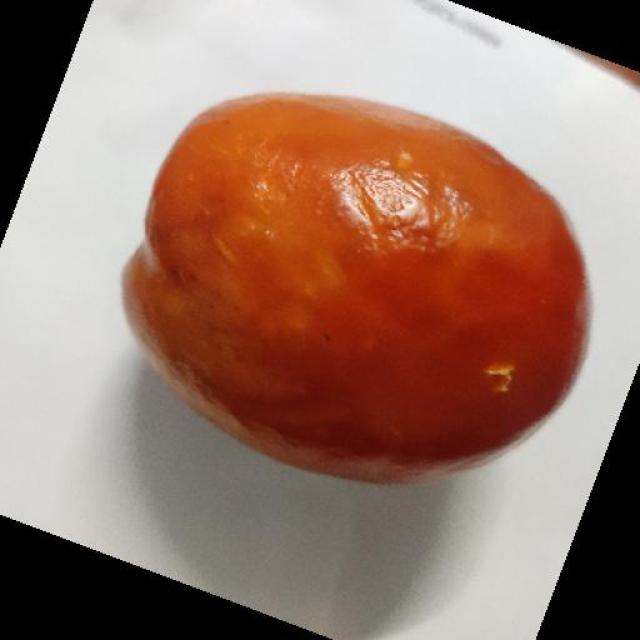Stale_tomato: (106, 74, 610, 498)
